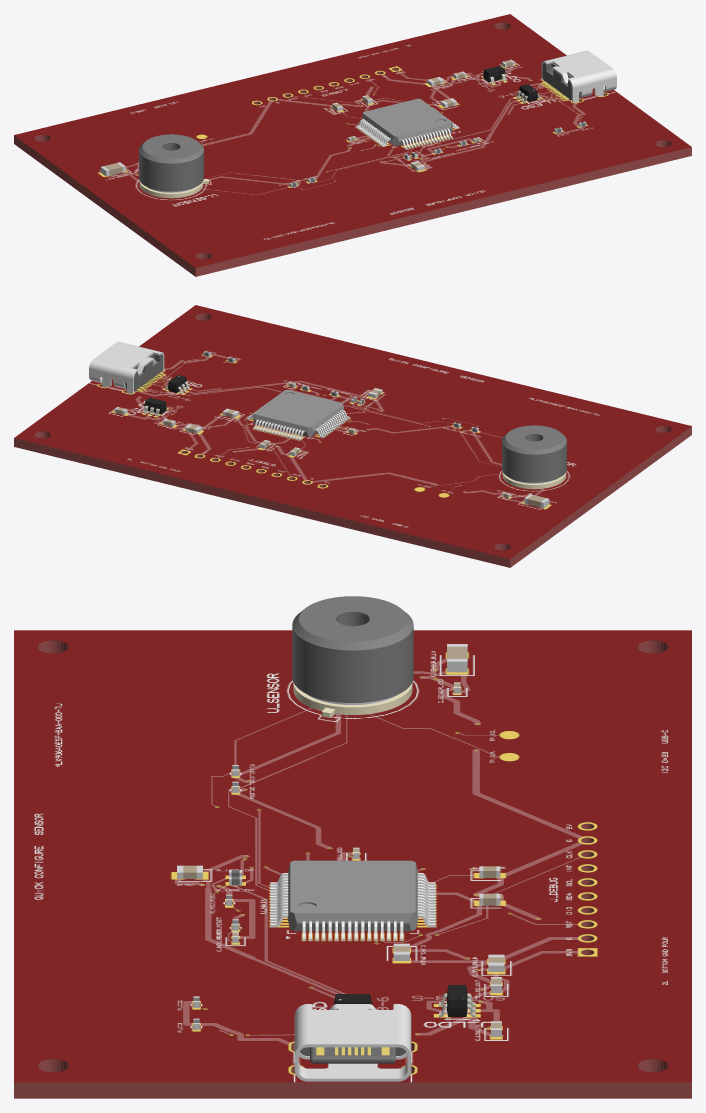
3 views of the same model, one above another, from view 1: azimuth 30°, elevation 25°; view 2: azimuth 150°, elevation 25°; view 3: azimuth 270°, elevation 25° (orthographic). The views are drawn at different scales.
Visible parts, largest first — view 1: Box0, U_SENSOR, U_MAIN, J_USB; view 2: Box0, U_SENSOR, U_MAIN, J_USB; view 3: Box0, U_SENSOR, U_MAIN, J_USB, U_LDO.
Boxes of the visible parts, x1,y1,x2,y2 form: Box0: (14,14,691,276); U_SENSOR: (139,134,208,198); U_MAIN: (355,98,459,149); J_USB: (541,50,616,102); Box0: (14,305,691,567); U_SENSOR: (502,425,566,489); U_MAIN: (246,389,350,440); J_USB: (89,341,164,393); Box0: (14,630,691,1098); U_SENSOR: (292,596,413,717); U_MAIN: (270,860,435,940); J_USB: (294,1004,411,1081); U_LDO: (439,985,475,1017).
Size of the model in its own units: 82.04 by 12.5 by 52.
Materials: 20 (2 with a texture image).
